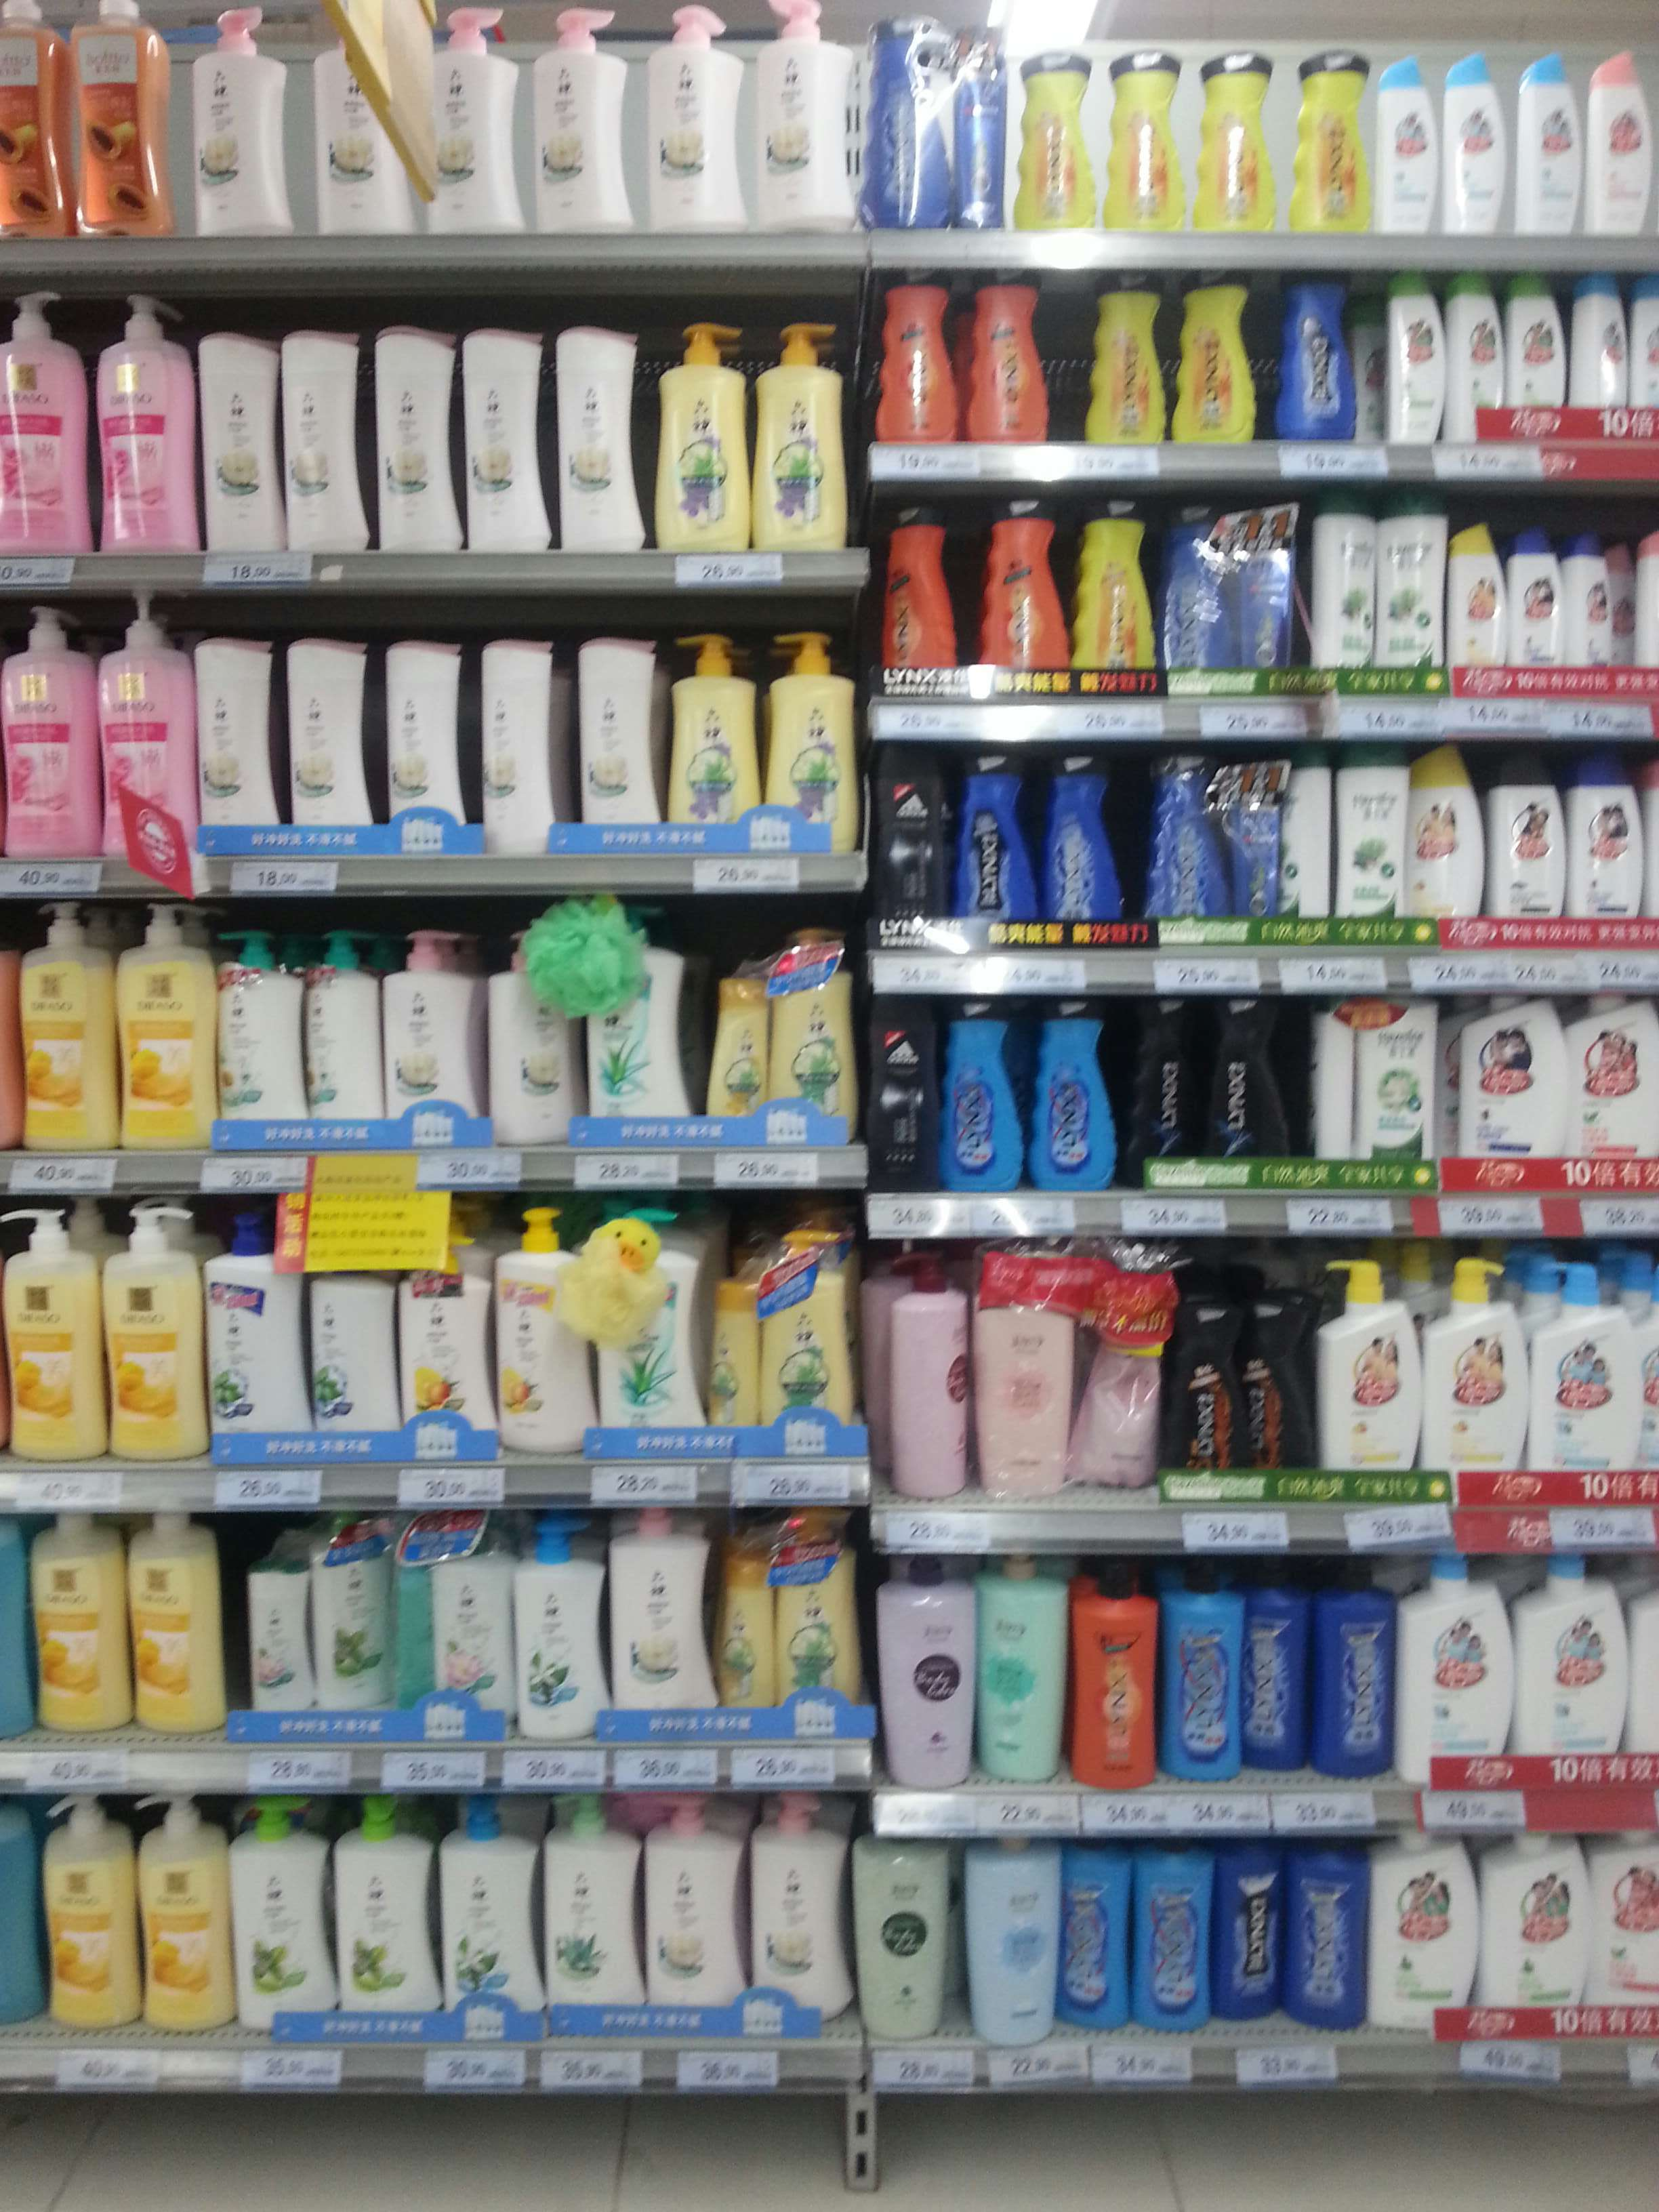product: (720, 1503, 856, 1754), (701, 1219, 842, 1456), (701, 921, 847, 1141), (864, 16, 1009, 233), (580, 1204, 701, 1456), (199, 1198, 307, 1460), (584, 902, 701, 1141), (1159, 493, 1297, 695), (1134, 747, 1276, 944), (610, 1503, 716, 1754), (631, 2, 746, 233), (98, 287, 197, 554), (1424, 1258, 1537, 1491), (1403, 1552, 1520, 1778), (972, 1249, 1077, 1501), (3, 1204, 105, 1465), (185, 7, 300, 233), (66, 2, 178, 233), (1316, 1259, 1424, 1496), (228, 1796, 336, 2033), (640, 1791, 748, 2026), (1520, 1550, 1629, 1780), (2, 286, 96, 552), (525, 5, 633, 235), (336, 1791, 439, 2031), (106, 1200, 199, 1467), (2, 608, 99, 859), (748, 3, 856, 230), (1535, 1259, 1640, 1493), (305, 9, 413, 232), (540, 1791, 640, 2031), (26, 897, 120, 1150), (441, 1794, 540, 2033), (35, 1797, 134, 2036), (416, 5, 521, 230), (554, 629, 657, 855), (106, 583, 195, 845), (880, 1554, 978, 1791), (657, 629, 760, 852), (650, 326, 751, 550), (493, 1204, 582, 1454), (1373, 1831, 1483, 2031), (1459, 995, 1575, 1183), (458, 322, 554, 550), (136, 1791, 225, 2036), (751, 317, 843, 552), (1077, 1242, 1162, 1496), (748, 1794, 840, 2026), (122, 909, 211, 1150), (390, 1244, 493, 1451), (976, 1552, 1066, 1787), (477, 920, 572, 1146), (849, 1831, 948, 2045), (1485, 1831, 1593, 2027), (35, 1514, 132, 1731), (376, 927, 474, 1144), (762, 625, 854, 855), (554, 327, 648, 552), (514, 1514, 608, 1737), (960, 1832, 1058, 2045), (369, 634, 467, 845), (281, 326, 371, 550), (371, 326, 460, 552), (279, 631, 368, 845), (1164, 1559, 1249, 1782), (894, 1252, 971, 1498), (1023, 993, 1119, 1188), (1316, 1552, 1403, 1766), (467, 634, 554, 845), (1209, 989, 1302, 1188), (1040, 747, 1133, 946), (193, 632, 279, 846), (199, 326, 279, 554), (132, 1508, 214, 1731), (218, 928, 300, 1150), (1119, 989, 1209, 1188), (981, 496, 1072, 693), (1077, 1562, 1155, 1787), (950, 747, 1037, 949), (436, 1519, 512, 1747), (307, 1247, 389, 1460), (300, 928, 376, 1151), (1483, 745, 1567, 948), (1331, 744, 1413, 944), (1286, 1839, 1371, 2029), (870, 742, 948, 948), (1568, 747, 1647, 951), (1103, 51, 1190, 233), (941, 993, 1021, 1188), (1018, 51, 1103, 233), (1129, 1843, 1213, 2029), (310, 1512, 389, 1710), (1575, 1000, 1657, 1186), (1072, 493, 1148, 691), (0, 2, 64, 237), (1164, 1296, 1239, 1496), (1190, 51, 1274, 230), (884, 503, 962, 693), (864, 991, 939, 1188), (1058, 1832, 1131, 2029), (1288, 51, 1368, 230), (1241, 1292, 1316, 1482), (1359, 998, 1434, 1188), (1413, 745, 1483, 949), (962, 270, 1044, 441), (1251, 1559, 1317, 1768), (884, 265, 962, 439), (1276, 270, 1354, 441), (1173, 270, 1251, 441), (1382, 491, 1448, 690), (1093, 270, 1169, 441), (1211, 1846, 1286, 2019), (1316, 493, 1380, 690), (1593, 1838, 1659, 2029), (1581, 52, 1652, 228), (1443, 57, 1513, 230), (1377, 57, 1443, 230), (1514, 56, 1581, 228), (1274, 747, 1330, 944), (1504, 275, 1568, 435), (1452, 523, 1509, 698), (1445, 277, 1506, 442), (244, 1559, 310, 1710), (1387, 270, 1445, 444), (1305, 1001, 1358, 1188), (1565, 531, 1619, 704), (1509, 531, 1563, 700), (1570, 273, 1624, 437), (387, 1527, 434, 1712), (1626, 273, 1659, 435)
